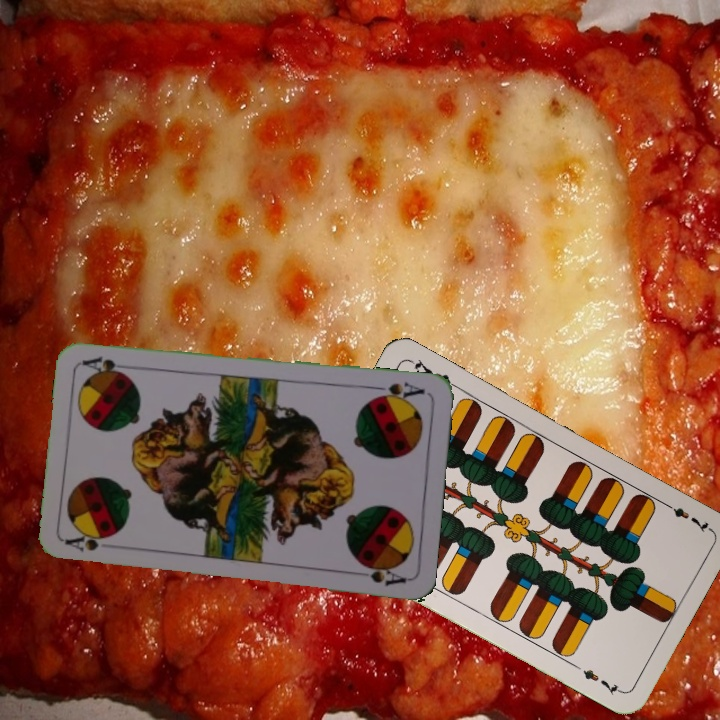E7: (658, 497, 713, 535)
SA: (368, 378, 427, 405), (62, 531, 111, 555)
